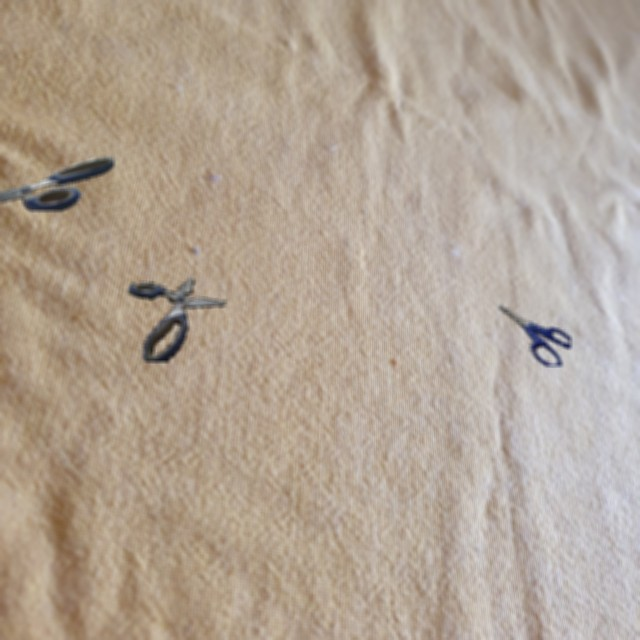scissors: (128, 277, 226, 362), (0, 156, 114, 211), (498, 305, 571, 366)
